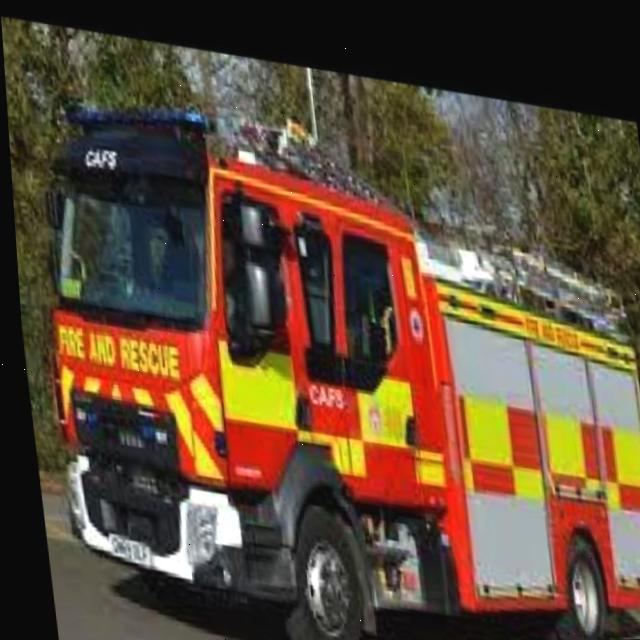emergency: (14, 71, 640, 640)
